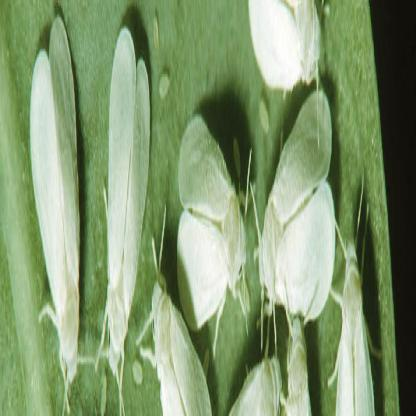whitefly: (29, 15, 80, 387), (258, 91, 335, 327), (176, 115, 247, 328), (108, 30, 151, 377)
